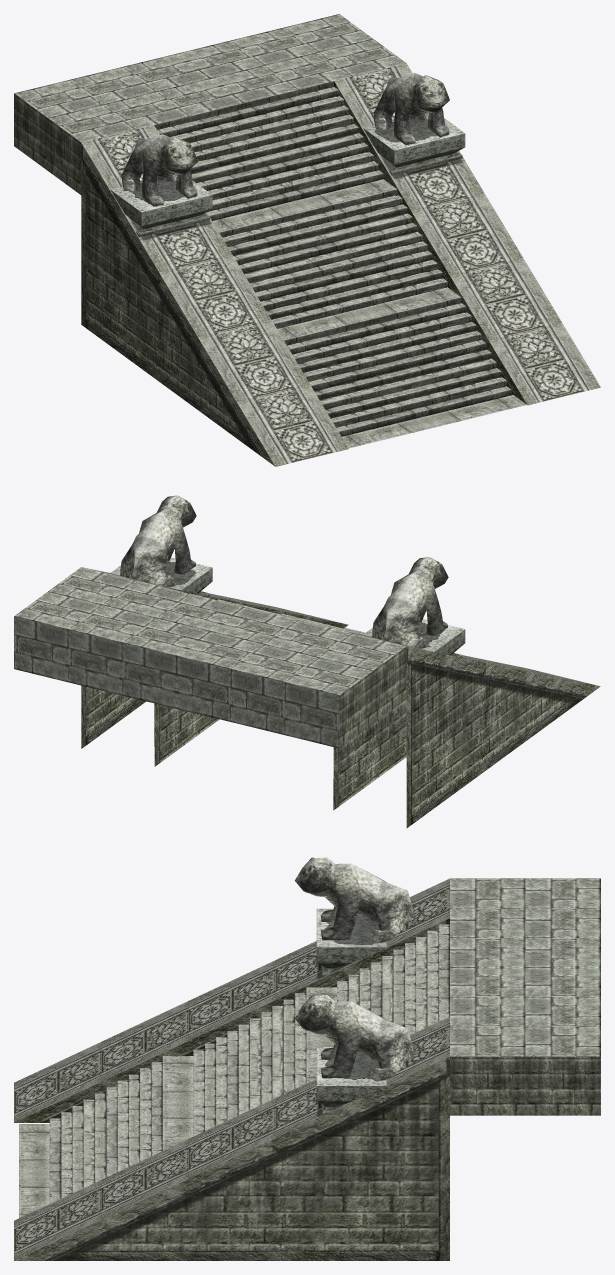
The model's file is a1s-002-inwall-02.fbx.
3 renders of one model, top to bottom at view 1: azimuth 30°, elevation 25°; view 2: azimuth 150°, elevation 25°; view 3: azimuth 270°, elevation 25°, orthographic. The views are drawn at different scales.
Visible parts, largest first — view 1: 11; view 2: 11; view 3: 11.
Part boxes in pixels (bbox=[...]): 11: bbox=[14, 14, 600, 466]; 11: bbox=[14, 495, 600, 828]; 11: bbox=[14, 857, 600, 1260].
Size of the model in its own units: 11.38 by 7.39 by 15.85.
